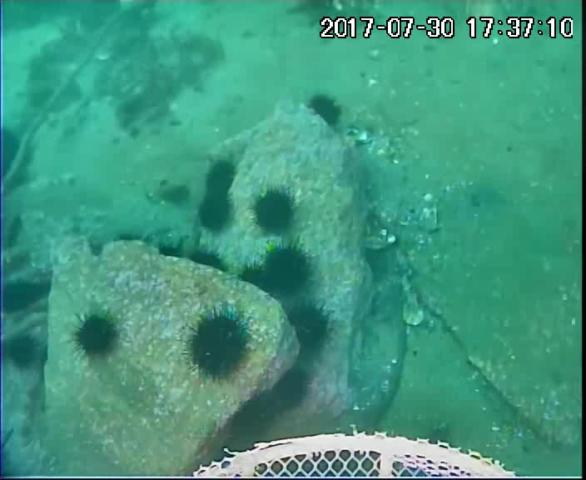echinus: (186, 309, 255, 383), (285, 301, 339, 356), (74, 312, 126, 366), (262, 243, 316, 293), (249, 187, 301, 238), (238, 262, 287, 299), (273, 365, 313, 408), (202, 161, 241, 203), (197, 195, 235, 236), (307, 95, 347, 131), (1, 124, 25, 180), (5, 333, 40, 371), (189, 247, 234, 275), (1, 280, 35, 311), (154, 241, 187, 261)
